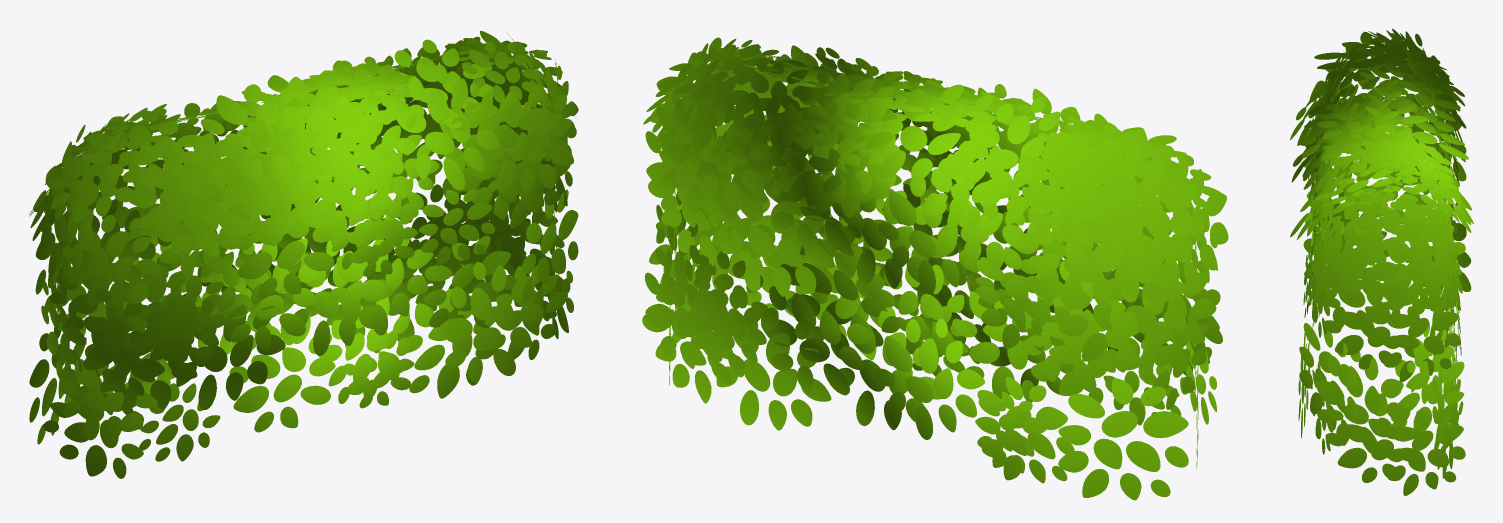
File: Bush_Large.gltf
The picture shows the model from 3 angles, left to right: view 1: azimuth 30°, elevation 25°; view 2: azimuth 150°, elevation 25°; view 3: azimuth 270°, elevation 25°; orthographic projection. The views are drawn at different scales.
Visible parts, largest first — view 1: Bush_Large; view 2: Bush_Large; view 3: Bush_Large.
Boxes of the visible parts, x1,y1,x2,y2 form: Bush_Large: (29,31,578,478); Bush_Large: (642,37,1228,500); Bush_Large: (1290,28,1473,495).
Size of the model in its own units: 1.9 by 1.22 by 0.7238.
Materials: 1 (1 with a texture image).
